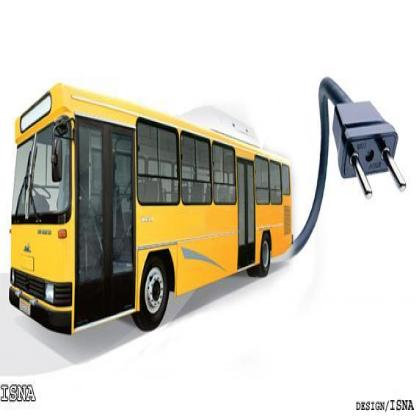Bus: (5, 77, 299, 344)
